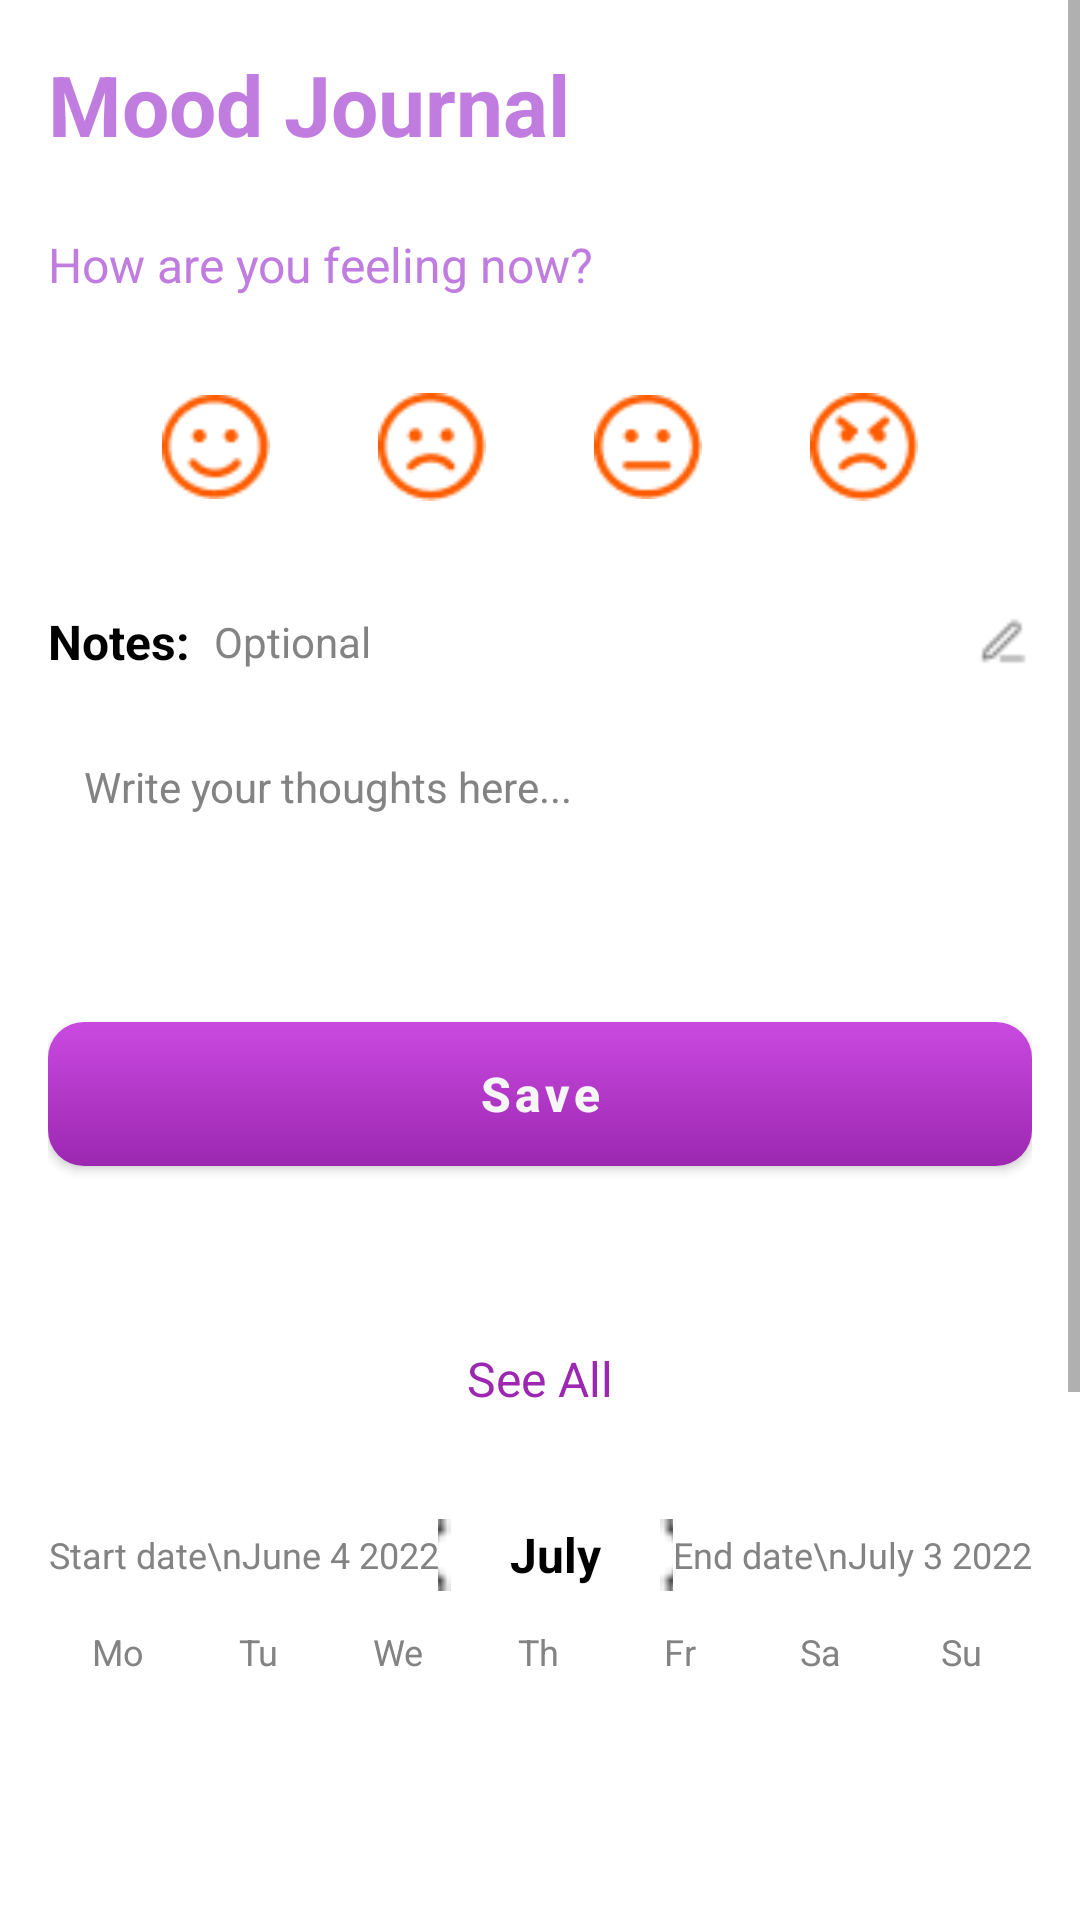

Screen size 1080 × 1920. Icon name, then its box in pixels as (x1, y1, x2, y2):
edit: (981, 620, 1025, 663)
emoji angry: (810, 393, 918, 501)
emoji happy: (162, 395, 270, 499)
emoji neutral: (594, 395, 702, 499)
emoji sad: (378, 393, 486, 501)
